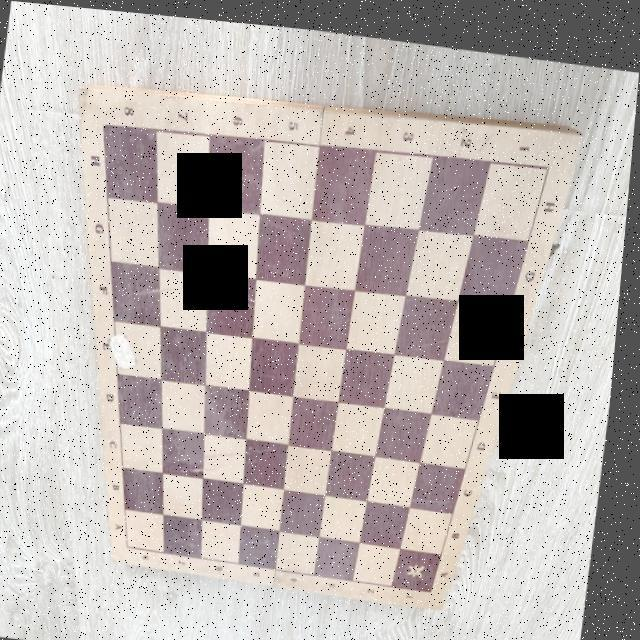chess-table-corners: (542, 146, 558, 166), (98, 113, 114, 132), (434, 574, 448, 590)
